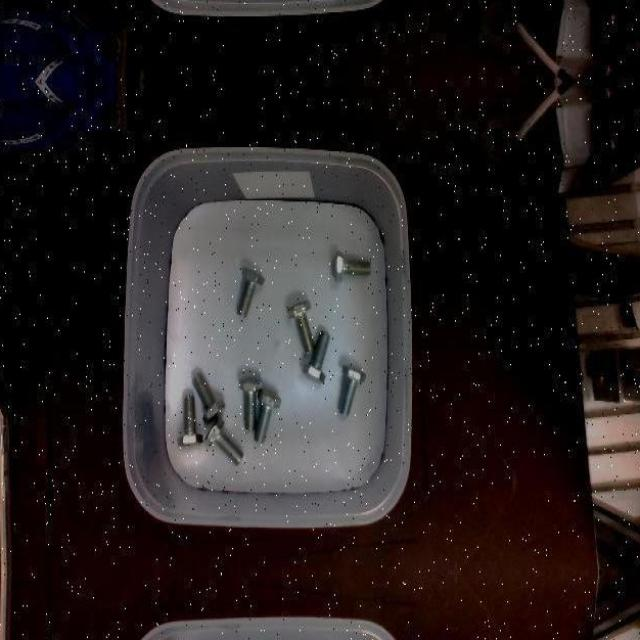screw: (204, 416, 244, 465), (192, 372, 226, 424), (254, 389, 281, 443), (338, 364, 366, 416), (303, 330, 331, 382), (287, 300, 315, 352), (237, 267, 266, 317), (177, 396, 203, 447), (239, 378, 264, 430), (334, 250, 371, 282)
